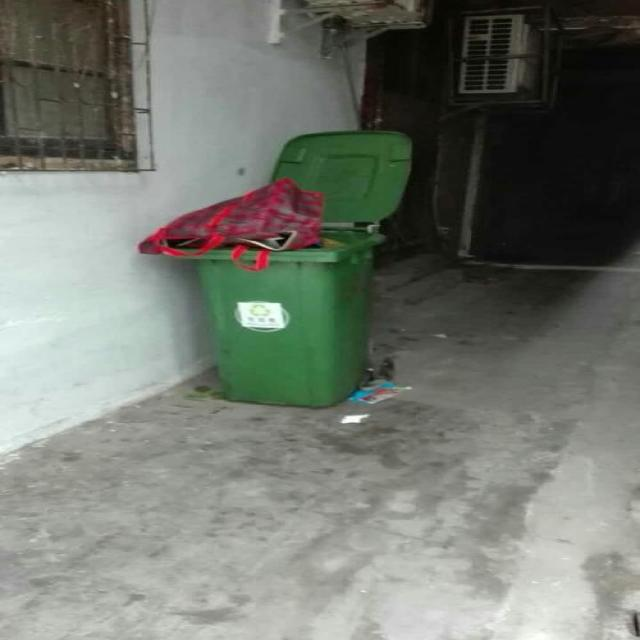garbage: (334, 375, 410, 423)
overflow: (136, 176, 388, 409)
